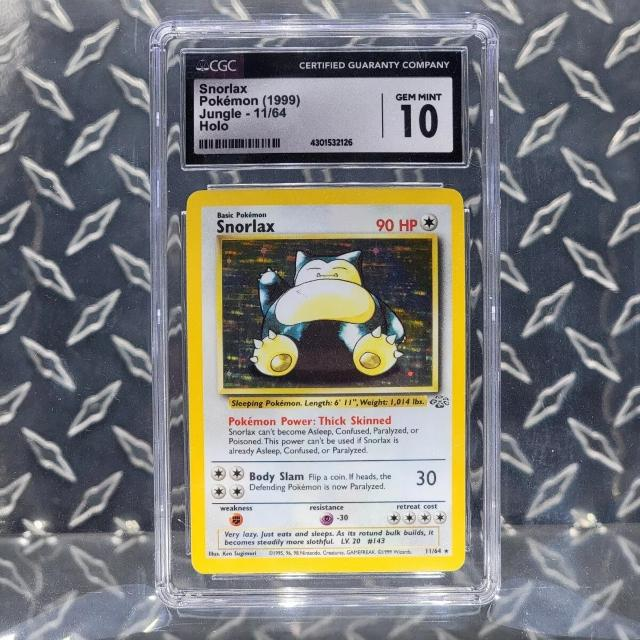card: (186, 189, 467, 575)
cgc_label: (183, 50, 463, 167)
cgc_slab: (149, 18, 503, 609)
